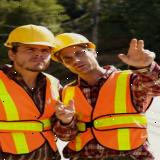Helmet: (4, 24, 58, 51), (49, 32, 96, 63)
Vest: (62, 68, 148, 152), (0, 68, 60, 155)
